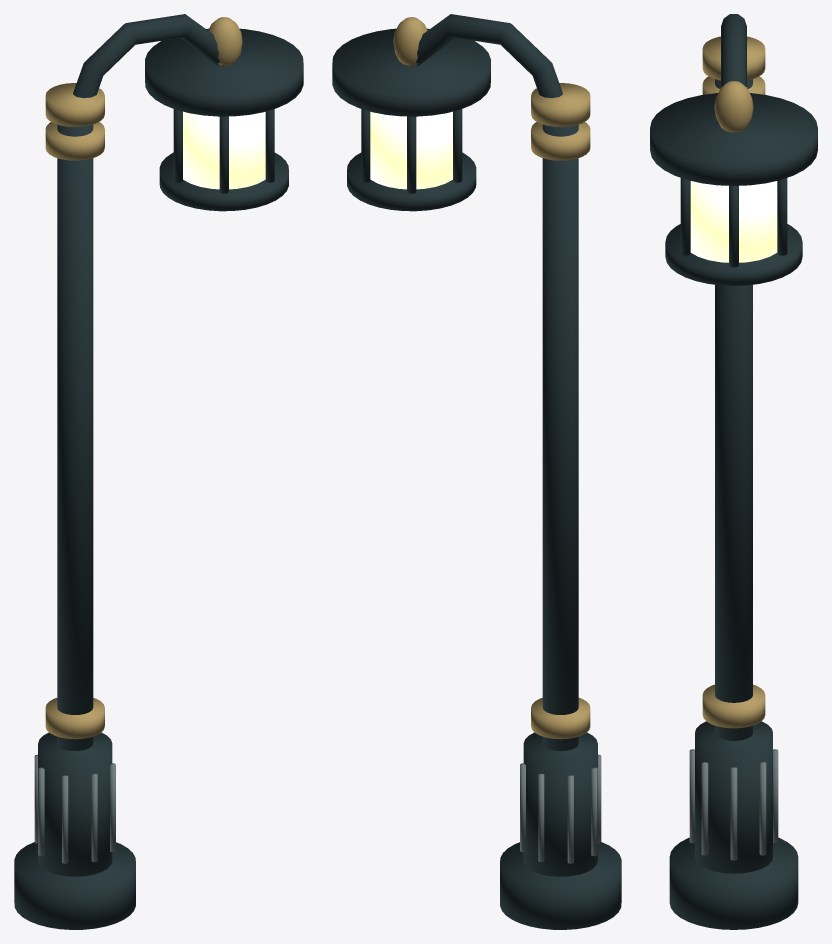
Rendered from streetlamp_refined.glb.
3 renders of one model, left to right at view 1: azimuth 30°, elevation 25°; view 2: azimuth 150°, elevation 25°; view 3: azimuth 270°, elevation 25°, orthographic. The views are drawn at different scales.
Parts seen in each view (by area): view 1: Tapered upright, Lantern roof, Lamp pedestal, Lamp foot, Lantern warm glass, Curved swan neck, Lantern base, Cast post collar.004, Cast post collar.002, Cast post collar.003, Lantern crown, Lantern metal cage.002 (+5 smaller); view 2: Tapered upright, Lantern roof, Lamp pedestal, Lamp foot, Lantern warm glass, Curved swan neck, Lantern base, Cast post collar.004, Cast post collar.002, Cast post collar.003, Lantern crown, Lantern metal cage.004 (+5 smaller); view 3: Tapered upright, Lantern roof, Lamp pedestal, Lamp foot, Lantern warm glass, Lantern base, Cast post collar.002, Curved swan neck, Lantern crown, Cast post collar.004, Lantern metal cage.001, Lantern metal cage.005 (+7 smaller).
Boxes of the visible parts, x1,y1,x2,y2 form: Tapered upright: (57, 124, 93, 750); Lantern roof: (145, 28, 303, 116); Lamp pedestal: (38, 732, 112, 876); Lamp foot: (14, 842, 135, 929); Lantern warm glass: (183, 111, 265, 189); Curved swan neck: (73, 14, 224, 98); Lantern base: (159, 152, 288, 211); Cast post collar.004: (45, 83, 104, 127); Cast post collar.002: (45, 698, 104, 739); Cast post collar.003: (45, 122, 104, 160); Lantern crown: (208, 17, 242, 65); Lantern metal cage.002: (219, 116, 228, 193); Tapered upright: (542, 124, 578, 750); Lantern roof: (332, 28, 490, 116); Lamp pedestal: (523, 732, 597, 876); Lamp foot: (500, 842, 621, 929); Lantern warm glass: (370, 111, 452, 189); Curved swan neck: (411, 14, 562, 98); Lantern base: (347, 152, 476, 211); Cast post collar.004: (531, 83, 590, 127); Cast post collar.002: (531, 698, 590, 739); Cast post collar.003: (531, 122, 590, 160); Lantern crown: (393, 17, 427, 65); Lantern metal cage.004: (407, 116, 416, 193); Tapered upright: (715, 79, 752, 740); Lantern roof: (650, 93, 817, 185); Lamp pedestal: (695, 721, 772, 873); Lamp foot: (669, 837, 798, 929); Lantern warm glass: (690, 181, 777, 262); Lantern base: (665, 224, 802, 285); Cast post collar.002: (702, 684, 765, 728); Curved swan neck: (721, 14, 746, 86); Lantern crown: (714, 81, 753, 132); Cast post collar.004: (702, 36, 765, 80); Lantern metal cage.001: (680, 178, 690, 255); Lantern metal cage.005: (777, 178, 787, 255).
Size of the model in its own units: 1.18 by 3.61 by 0.6.
